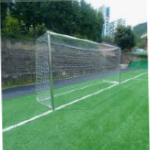goals: (34, 28, 123, 113)
